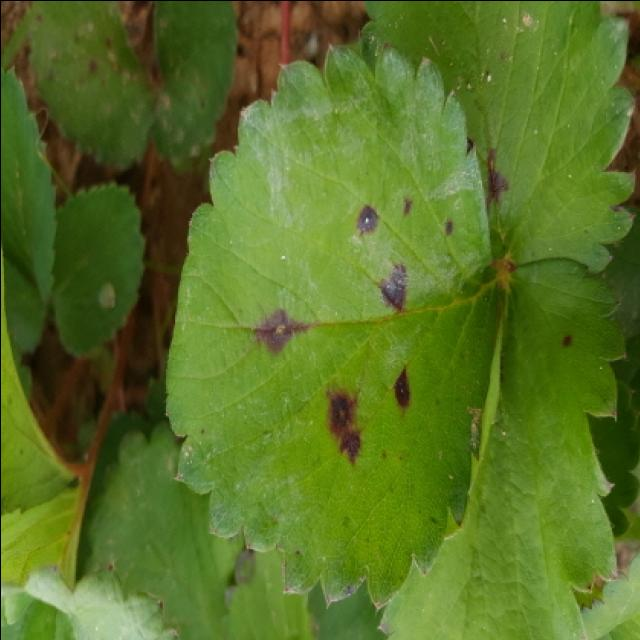Leaf Spot: (162, 44, 503, 612), (375, 256, 627, 640), (353, 2, 637, 273), (26, 2, 158, 172)
